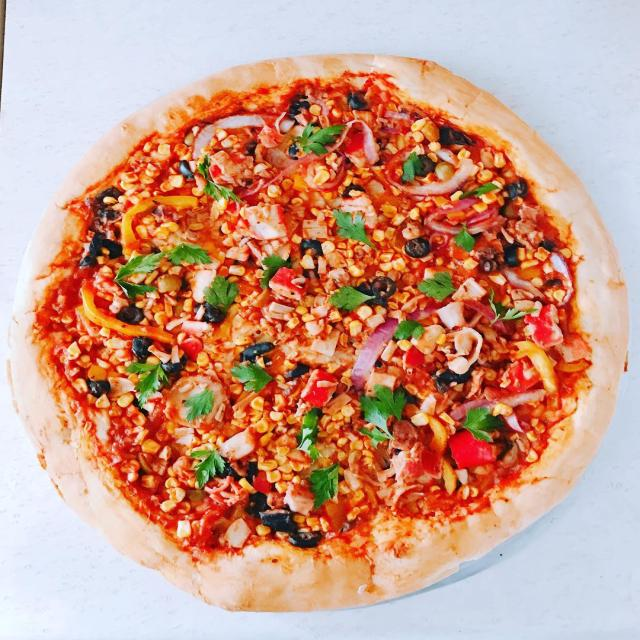black_olives: (263, 506, 320, 552), (434, 367, 479, 397), (84, 236, 124, 264), (348, 86, 382, 117), (495, 235, 529, 266), (286, 95, 320, 124), (438, 123, 474, 148), (369, 272, 395, 302), (239, 337, 267, 362), (406, 235, 431, 262), (410, 150, 435, 177), (114, 302, 140, 327), (201, 302, 224, 330), (86, 376, 112, 400)
peppers: (79, 289, 175, 349), (121, 193, 200, 240), (515, 338, 562, 388), (449, 433, 496, 468)
pizza: (7, 54, 629, 616)
